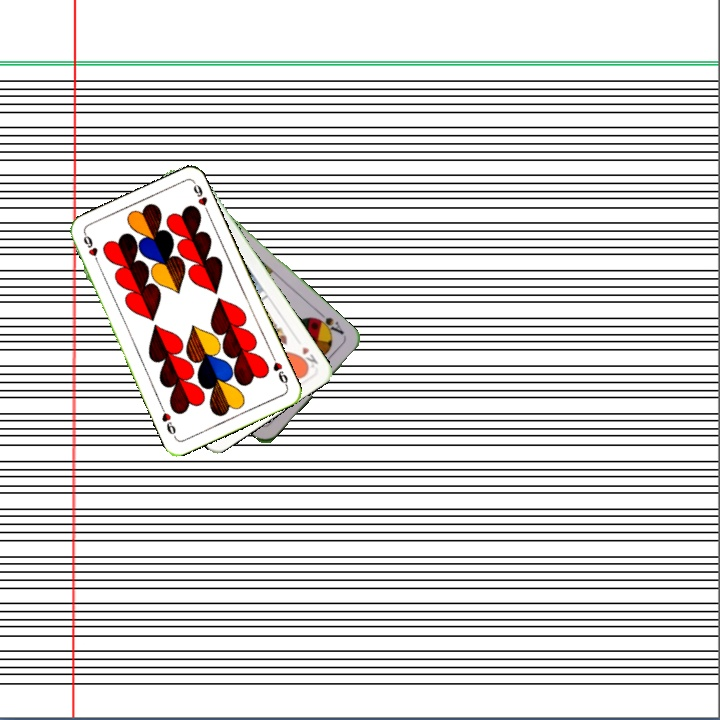H9: (79, 230, 102, 268), (268, 351, 290, 390)
HK: (294, 342, 321, 372)
SA: (310, 307, 346, 337)
